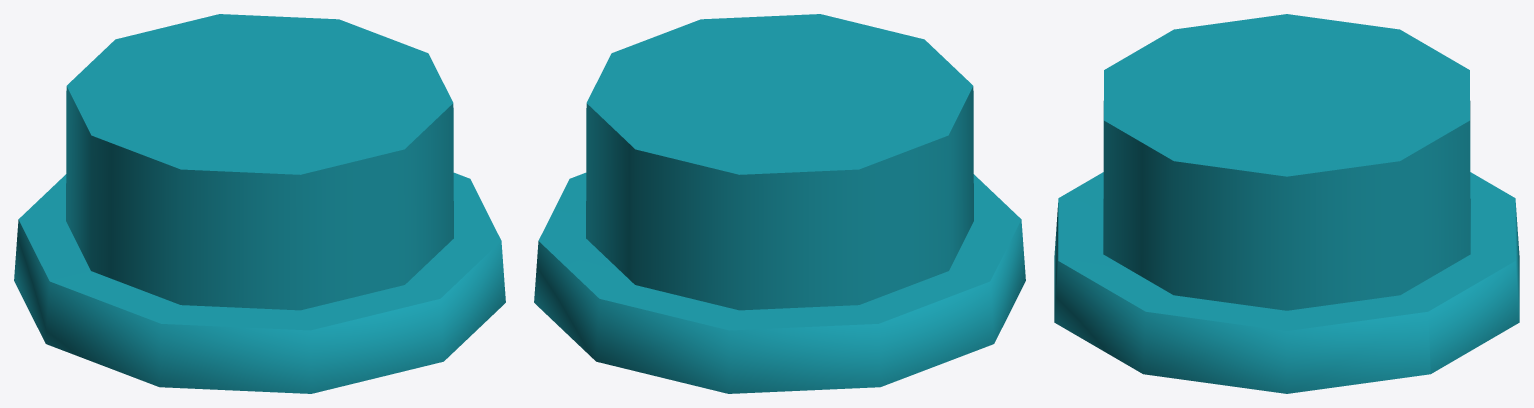
File: Blocker_B.fbx
3 views of the same model, side by side, from view 1: azimuth 30°, elevation 25°; view 2: azimuth 150°, elevation 25°; view 3: azimuth 270°, elevation 25° (orthographic).
Parts seen in each view (by area): view 1: Blocker_B; view 2: Blocker_B; view 3: Blocker_B.
Boxes of the visible parts, box(x1,y1,x2,y2) form: Blocker_B: box(14, 14, 505, 393); Blocker_B: box(534, 14, 1025, 393); Blocker_B: box(1054, 14, 1519, 393).
Bounding box in the file's own units: 2.54 × 1.12 × 2.41.
